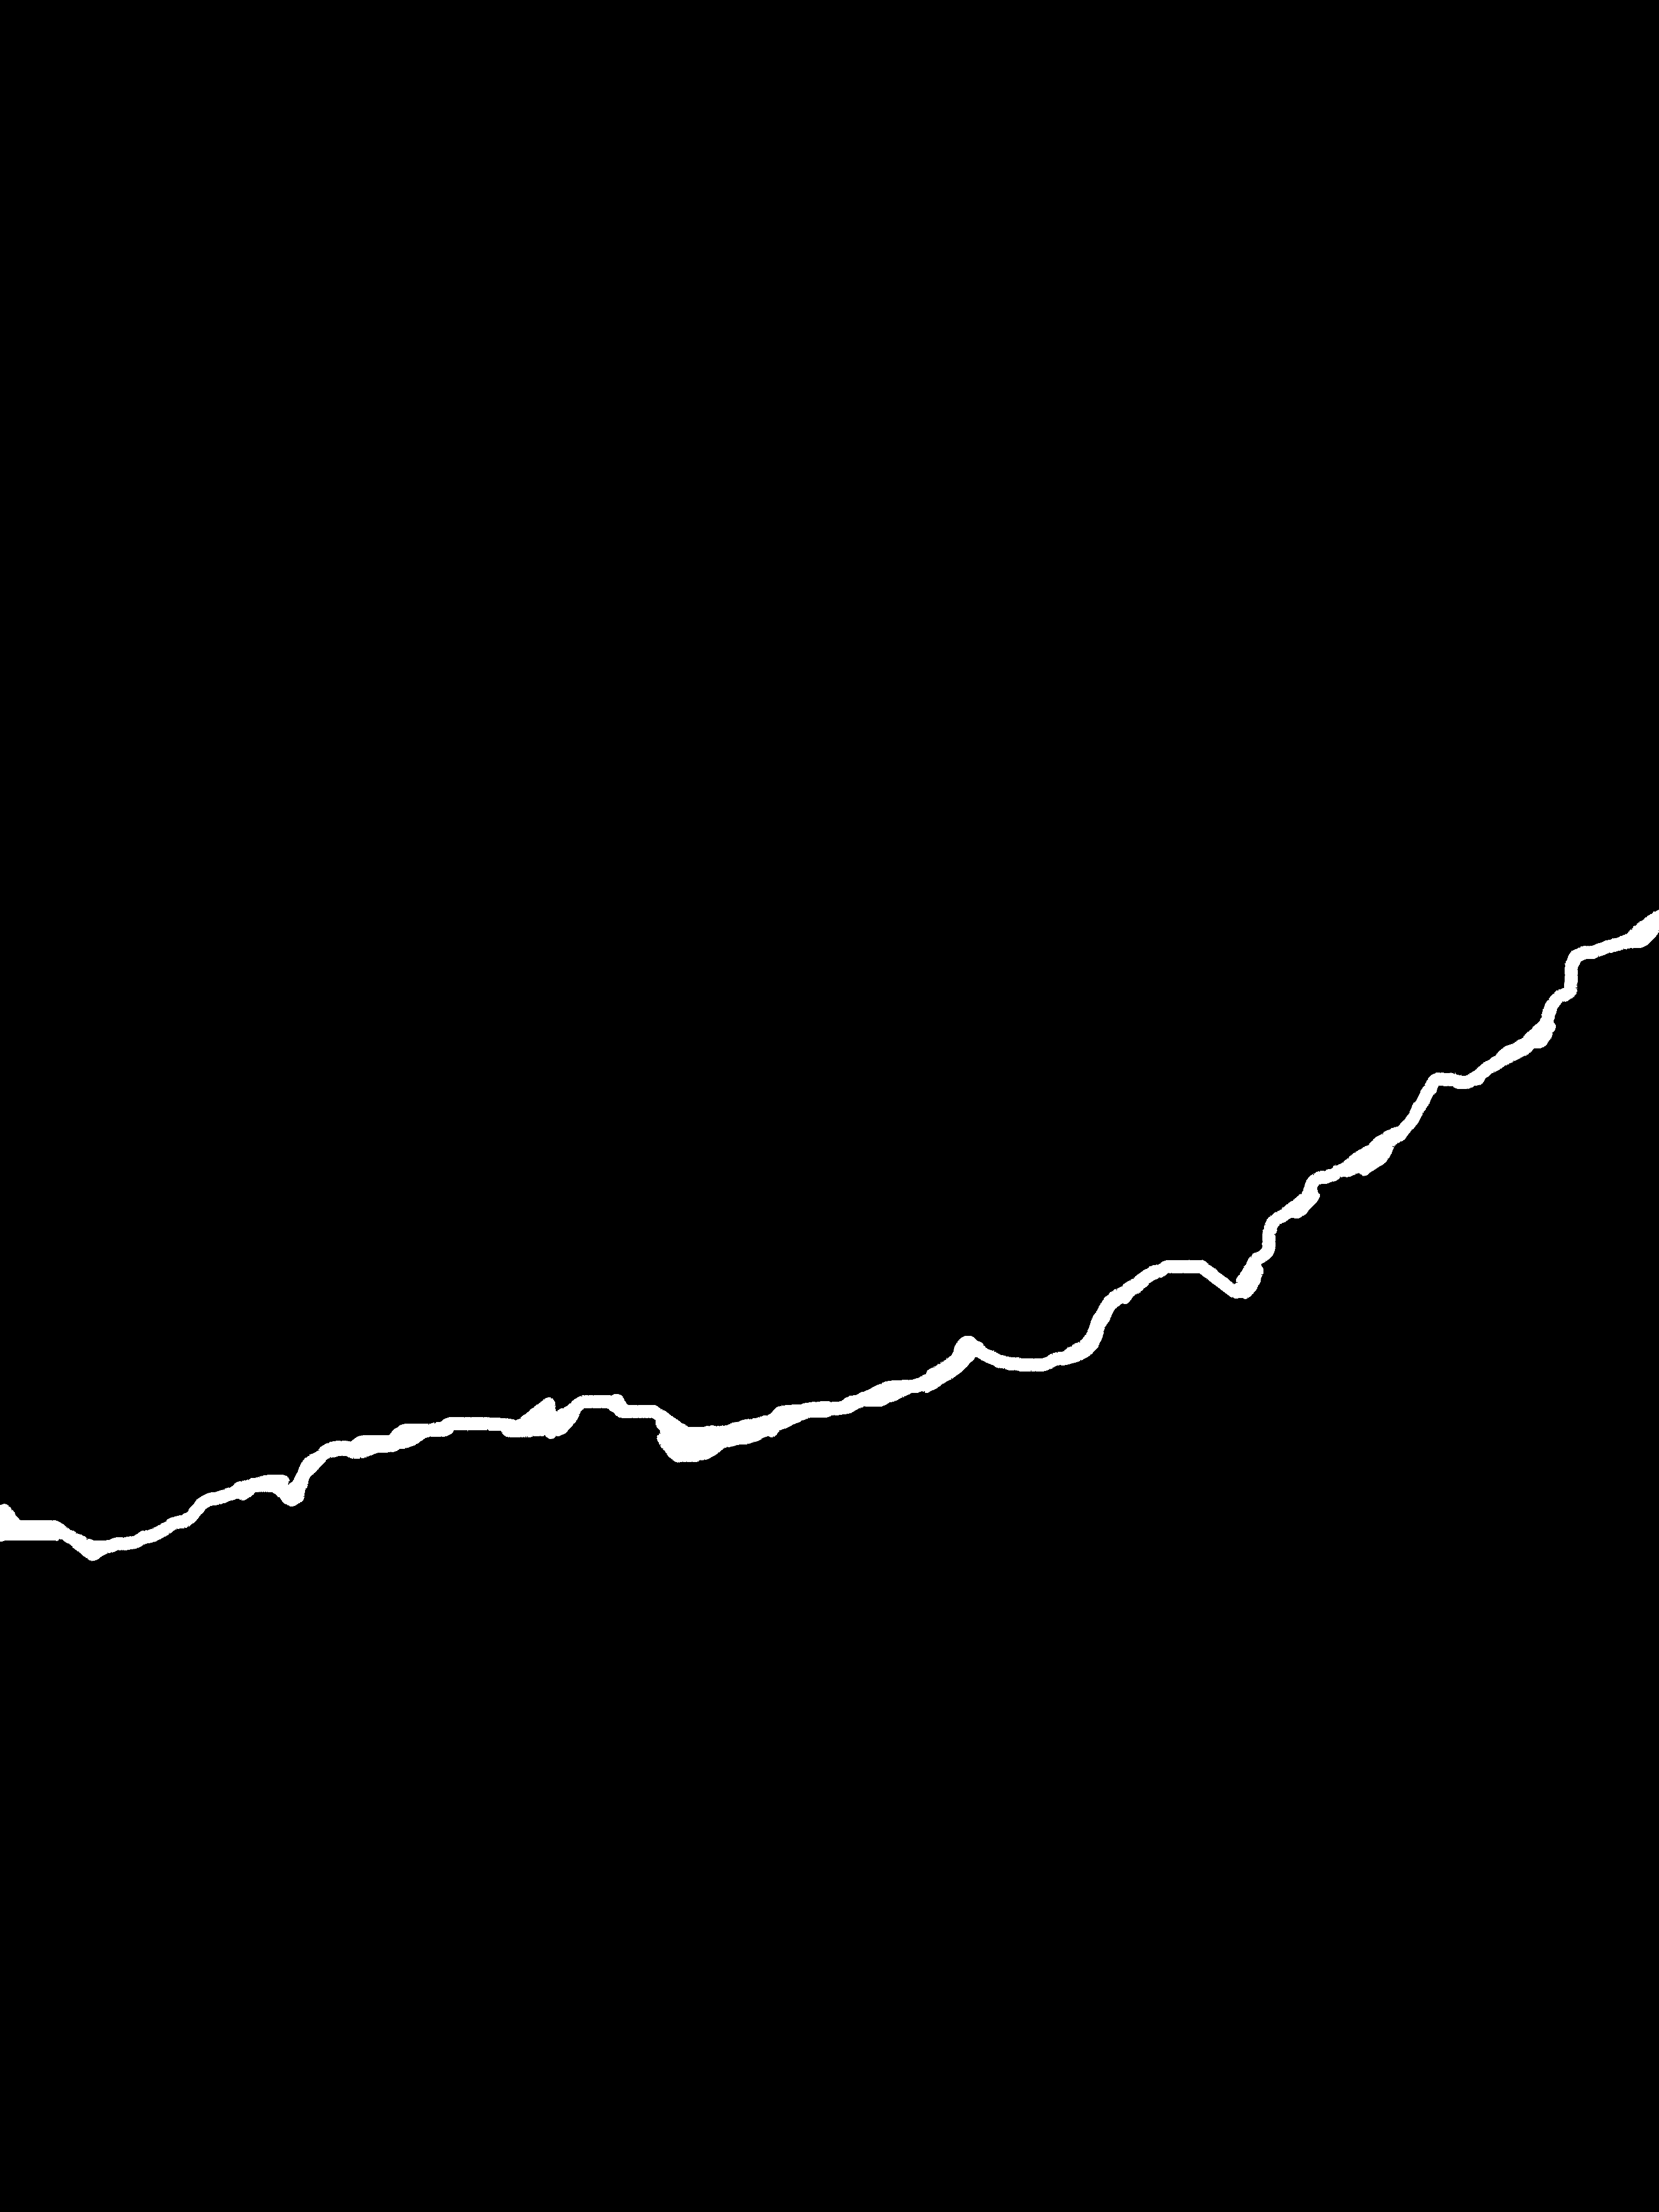Crack: (0, 890, 1659, 1595)
